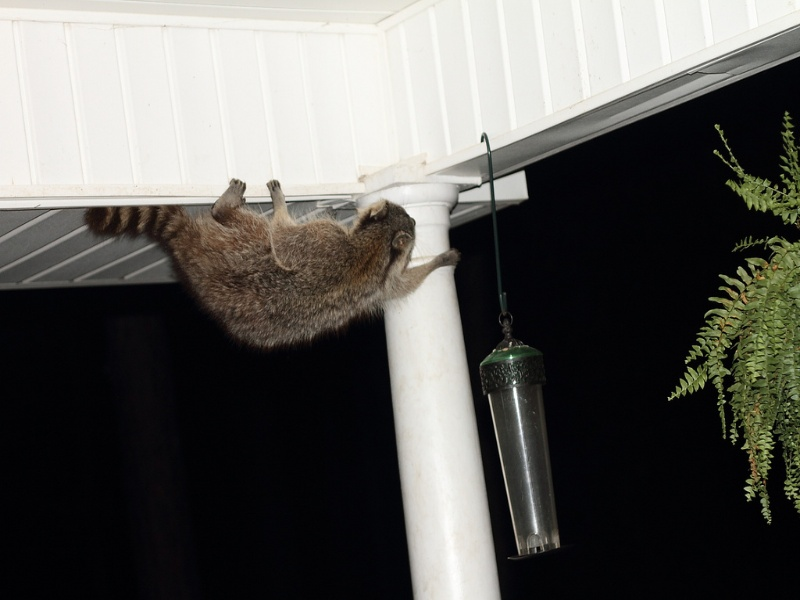raccoon: (85, 180, 472, 355)
